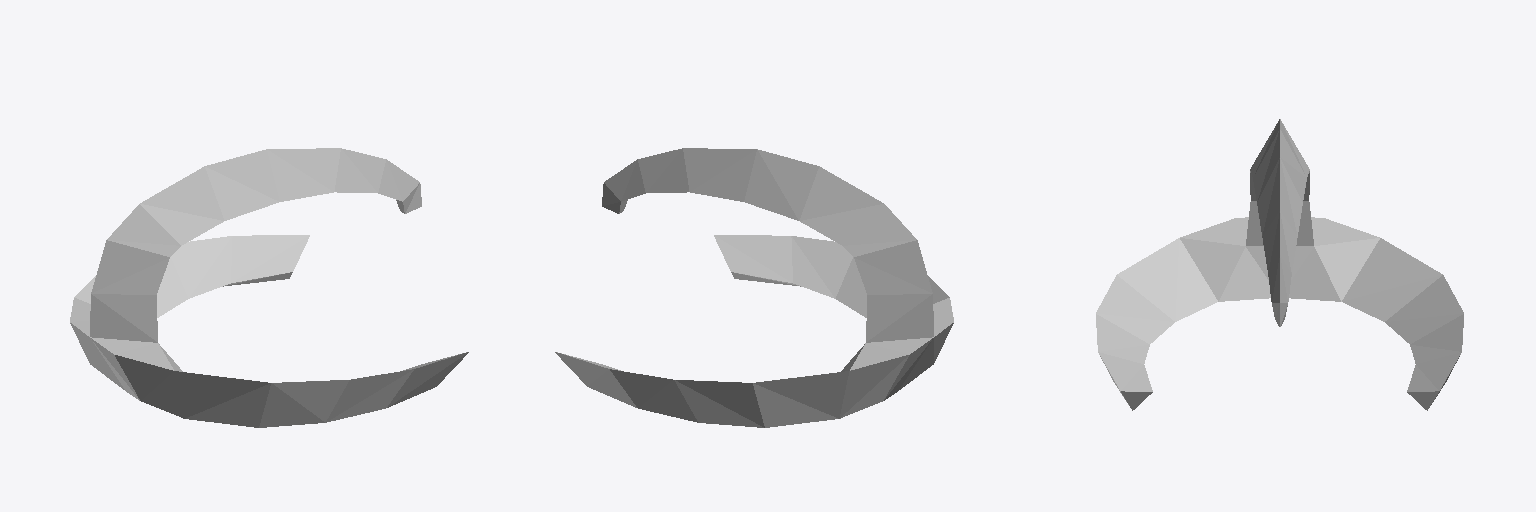
File: StarbaseWireframe.obj
The picture shows the model from 3 angles: view 1: azimuth 30°, elevation 25°; view 2: azimuth 150°, elevation 25°; view 3: azimuth 270°, elevation 25°; orthographic projection.
Visible parts, largest first — view 1: StarbaseWireframe_Starbase.001; view 2: StarbaseWireframe_Starbase.001; view 3: StarbaseWireframe_Starbase.001.
Part boxes in pixels (x1,y1,x2,y2): StarbaseWireframe_Starbase.001: (70, 148, 468, 427); StarbaseWireframe_Starbase.001: (555, 148, 953, 427); StarbaseWireframe_Starbase.001: (1096, 119, 1463, 410).
Size of the model in its own units: 31.24 by 18.72 by 30.